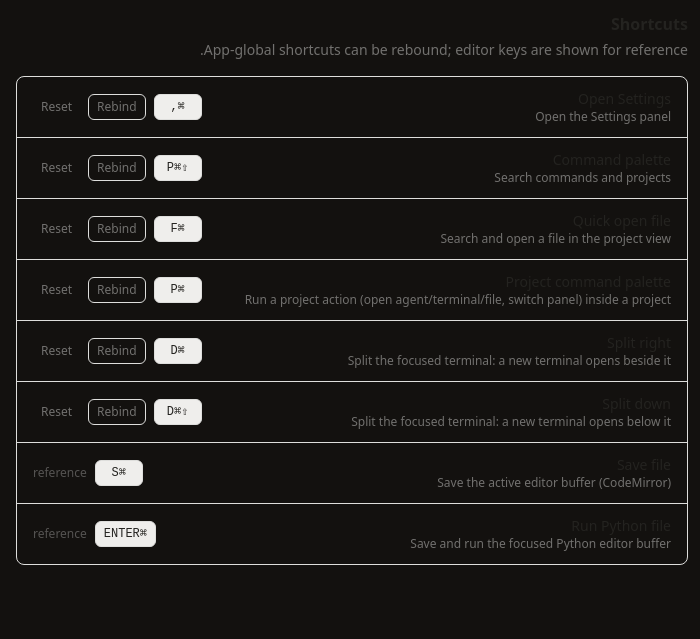
it: Settings sections › Shortcuts rejects a conflicting chord, preserves the prior binding, and stays ready to retry
Expected: the text with test id "shortcut-command-palette" reads "⇧⌘P", [167,161,188,175]
Expected: the text with test id "shortcut-quick-open" reads "⌘F", [170,222,185,236]
Click the button with test id "shortcut-command-palette-rebind". click: (117, 168)
box: [88,155,146,181]
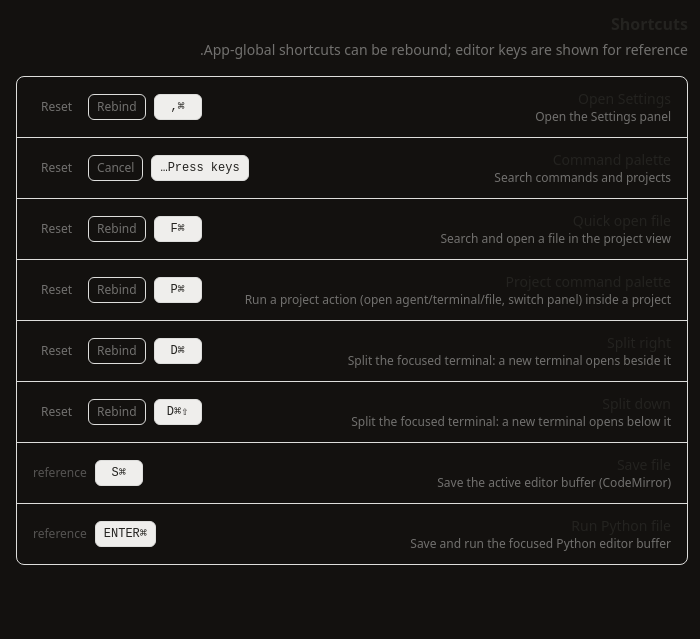
Press f
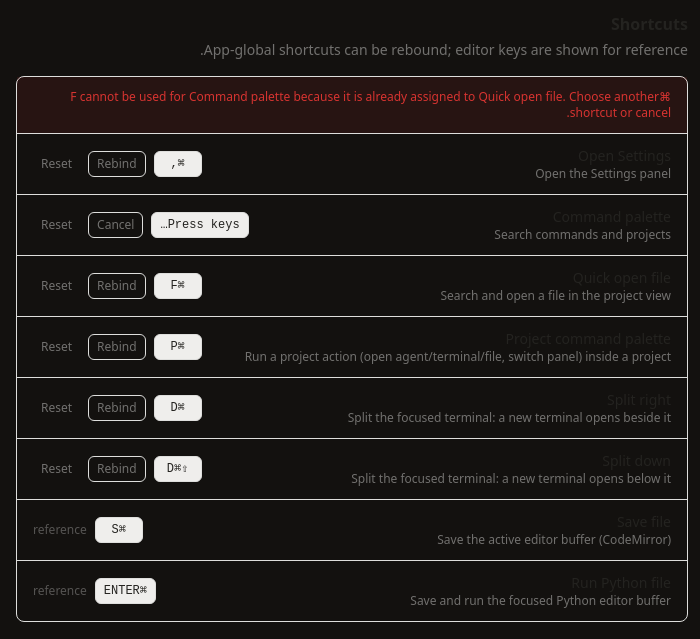
Result: the text with test id "shortcut-command-palette" reads "Press keys…" at [160,218,240,232]
Result: the message shows "⌘F" at [70,88,671,105]
Result: the message shows "Quick open file" at [478,88,563,105]
Press k
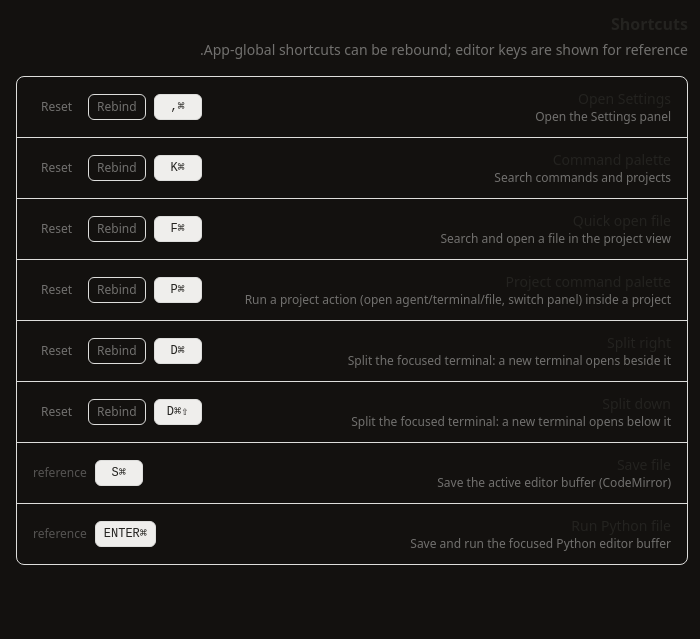
Result: the text with test id "shortcut-command-palette" reads "⌘K" at [170,161,185,175]
Result: the message is gone
Click the button with test id "shortcut-command-palette-rebind". click: (117, 168)
box: [88,155,146,181]
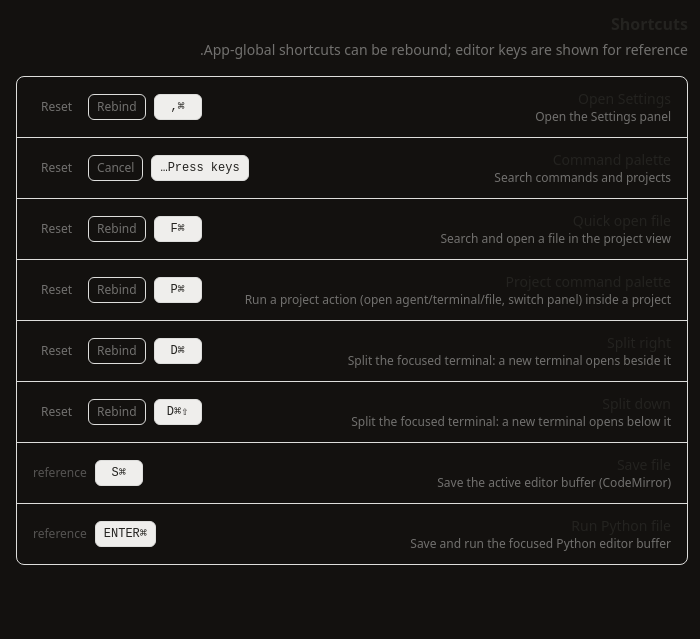
Press f
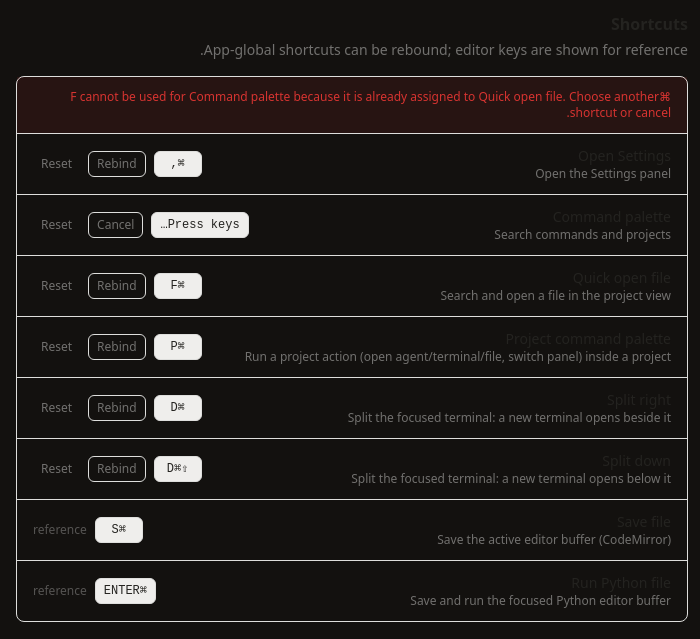
Result: the message is shown at [17,77,687,134]
Click the button with test id "shortcut-command-palette-rebind". click: (116, 225)
box: [88,212,144,238]
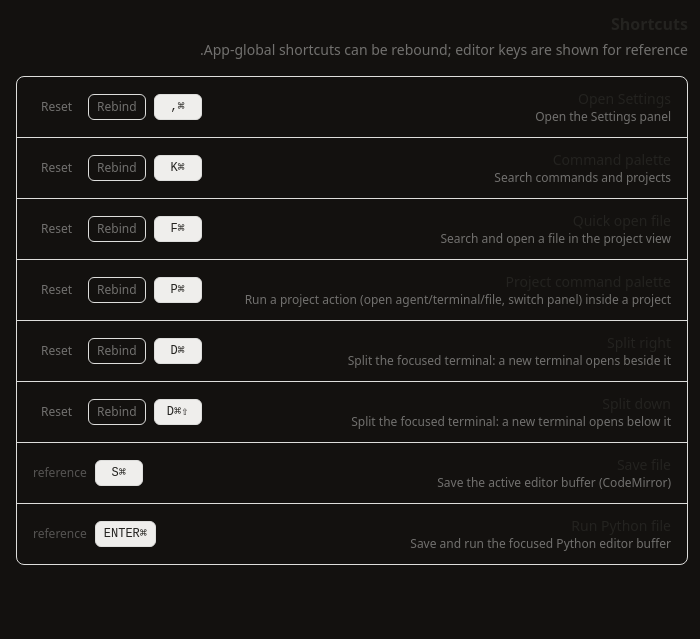
Result: the text with test id "shortcut-command-palette" reads "⌘K" at [170,161,185,175]
Result: the message is gone
